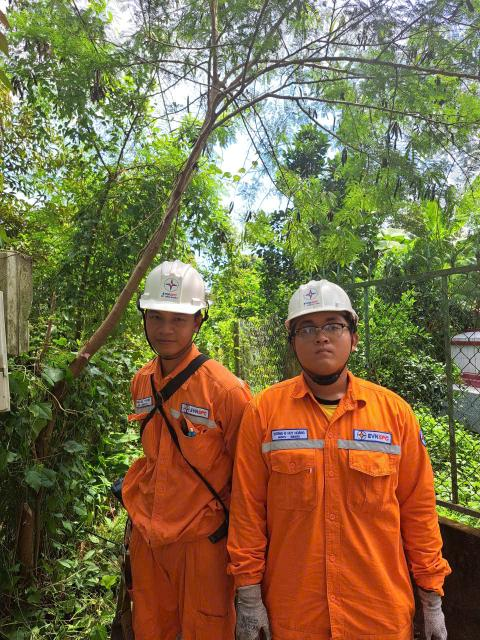gloves: (225, 576, 274, 640), (418, 582, 450, 640)
helmet: (271, 262, 371, 331), (130, 252, 226, 323)
